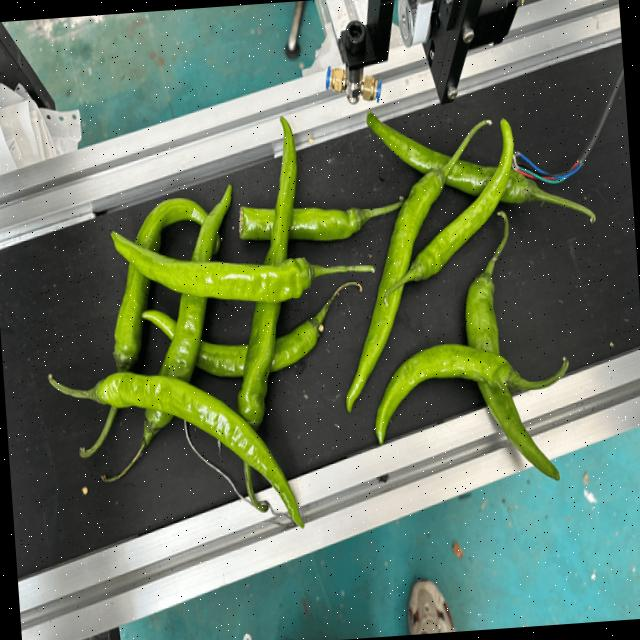chili: (90, 370, 306, 528), (342, 168, 446, 419), (142, 178, 234, 432), (235, 113, 301, 431), (465, 273, 563, 484), (113, 196, 221, 370), (408, 113, 515, 282), (366, 105, 539, 206), (373, 341, 524, 448), (109, 228, 314, 302), (139, 310, 323, 380), (235, 204, 371, 244)
